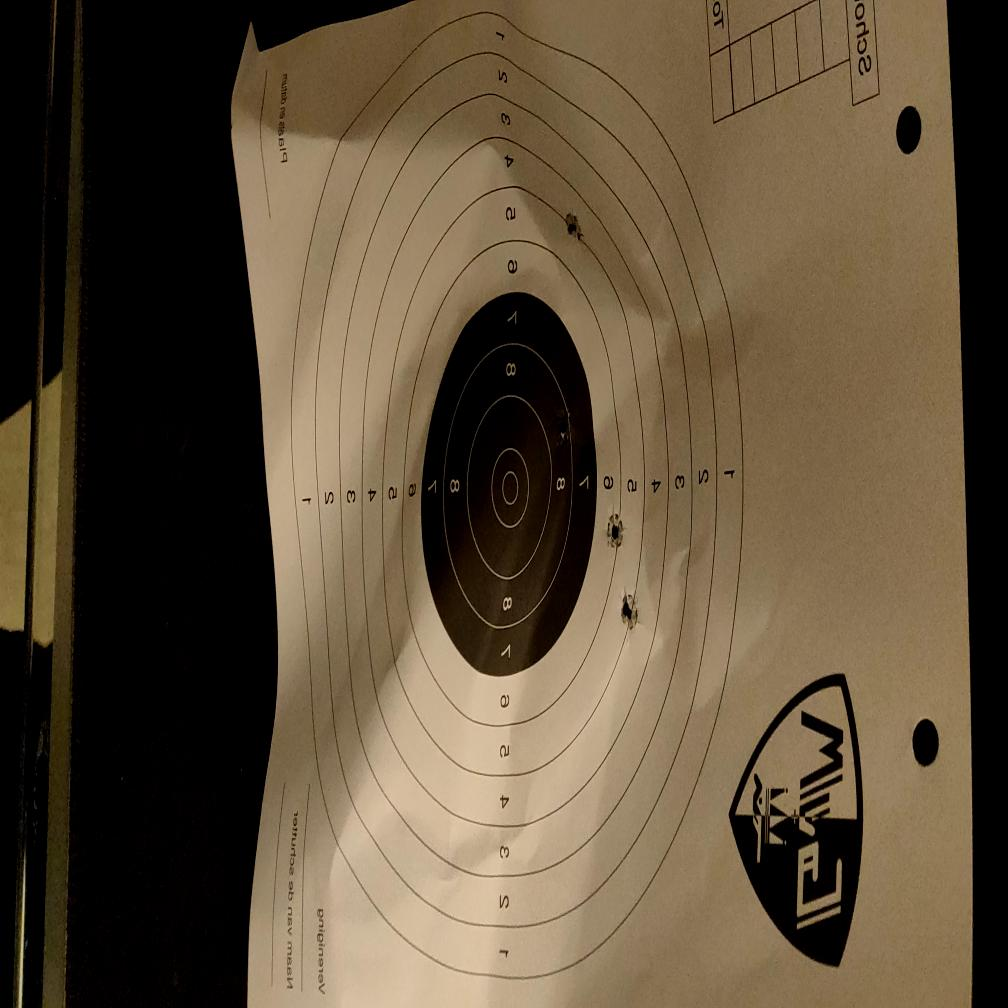5: (620, 592, 640, 633), (564, 210, 583, 243)
6: (606, 509, 626, 554)
8: (556, 410, 573, 448)
Target: (290, 19, 742, 979)
black_contour: (420, 290, 597, 678)
